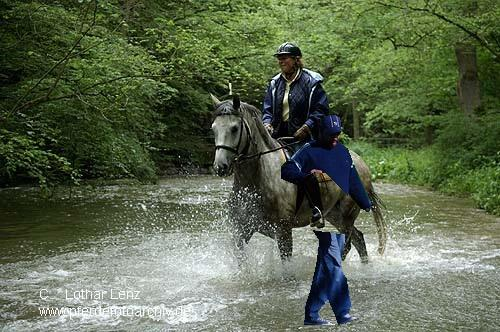tampered: (282, 116, 371, 325)
